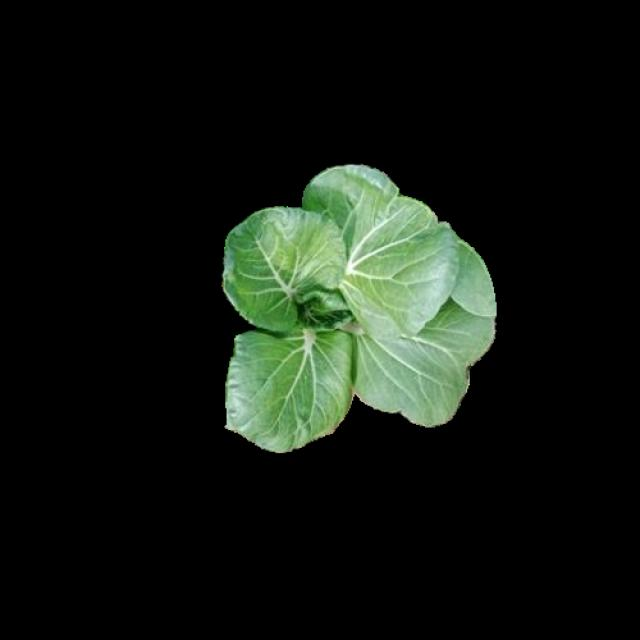healthy: (224, 169, 499, 444)
not-mature: (221, 168, 498, 443)
